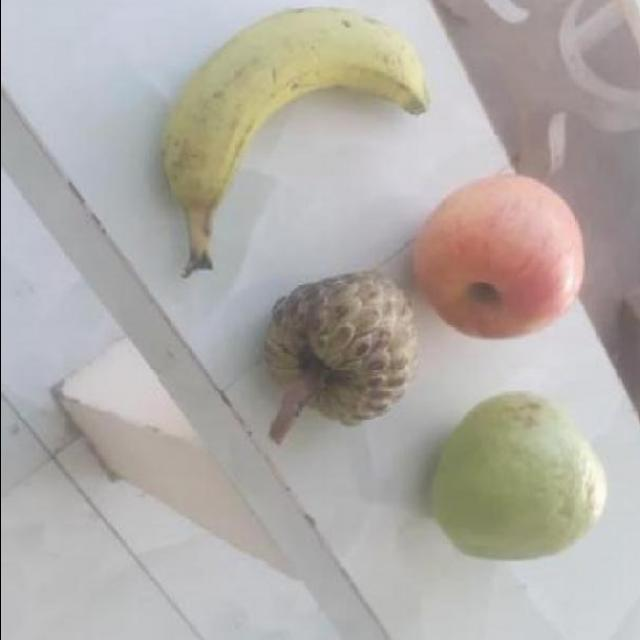apple: (418, 165, 586, 348)
banana: (156, 7, 432, 264)
guava: (428, 400, 604, 566)
sugar apple: (258, 273, 418, 437)
